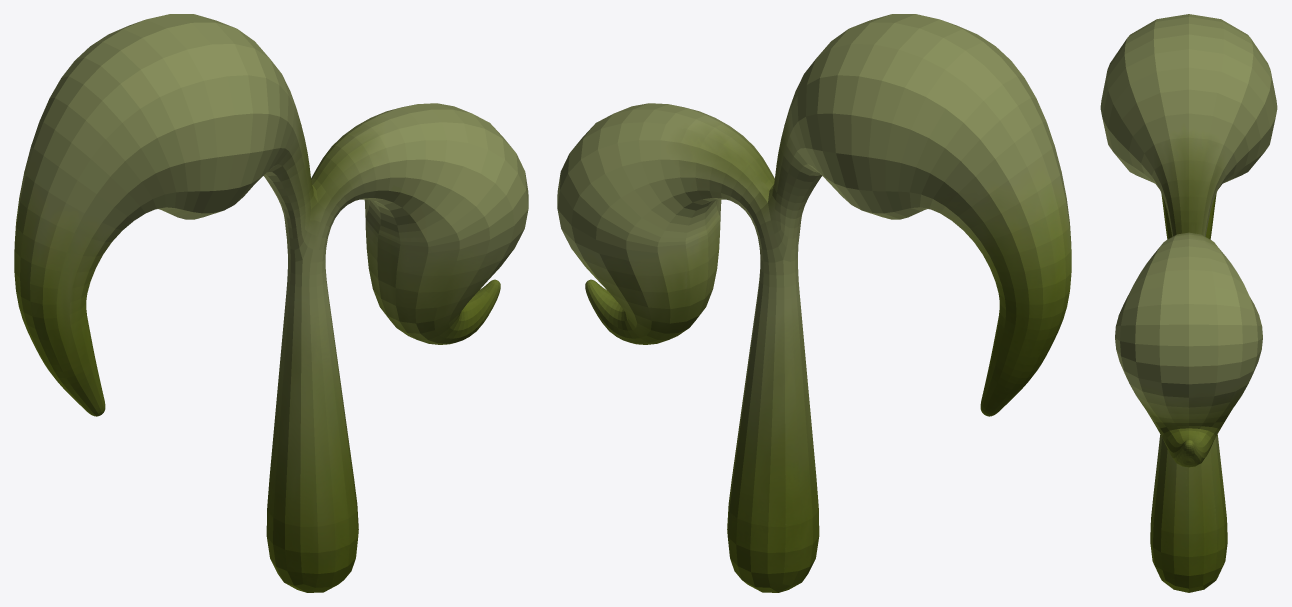
File: beanSprout.fbx
3 renders of one model, left to right at view 1: azimuth 30°, elevation 25°; view 2: azimuth 150°, elevation 25°; view 3: azimuth 270°, elevation 25°, orthographic. The views are drawn at different scales.
Parts seen in each view (by area): view 1: beanSprout; view 2: beanSprout; view 3: beanSprout.
Part boxes in pixels (<box>): beanSprout: <box>14,14,528,592</box>; beanSprout: <box>557,14,1071,592</box>; beanSprout: <box>1100,14,1277,592</box>.
Bounding box in the file's own units: 147 × 169 × 53.73.
